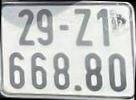-: (59, 25, 68, 30)
.: (75, 86, 81, 90)
0: (109, 54, 126, 92)
1: (97, 8, 109, 46)
2: (17, 10, 35, 46)
6: (9, 52, 25, 88), (31, 53, 47, 89)
8: (85, 53, 102, 91), (53, 52, 69, 89)
9: (37, 10, 53, 45)
Z: (75, 9, 93, 45)
